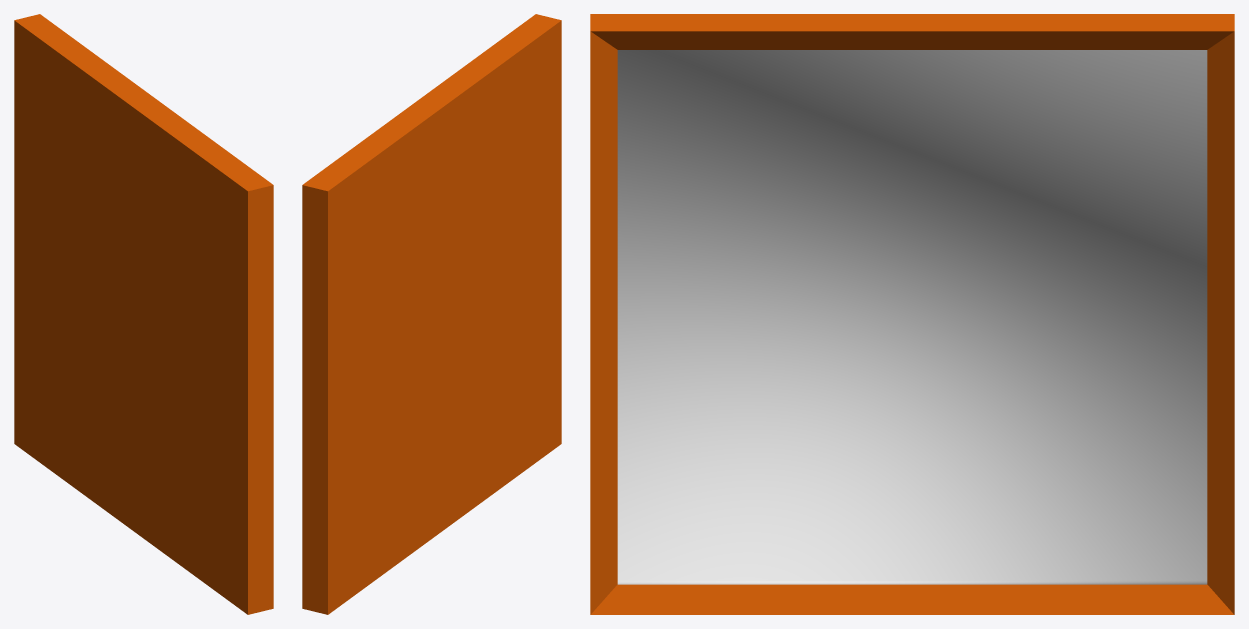
File: box-frame.glb
3 views of the same model, side by side, from view 1: azimuth 30°, elevation 25°; view 2: azimuth 150°, elevation 25°; view 3: azimuth 270°, elevation 25° (orthographic). The views are drawn at different scales.
Parts seen in each view (by area): view 1: frame; view 2: frame; view 3: paint, frame.
Boxes of the visible parts, x1,y1,x2,y2 form: frame: (14, 14, 273, 614); frame: (302, 14, 561, 614); paint: (617, 50, 1207, 584); frame: (590, 14, 1234, 614).
Bounding box in the file's own units: 0.1273 × 2 × 2.
